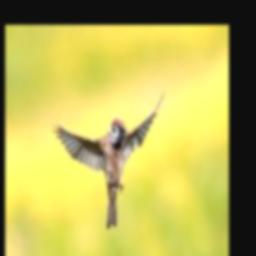Sparrow: (52, 90, 163, 229)
